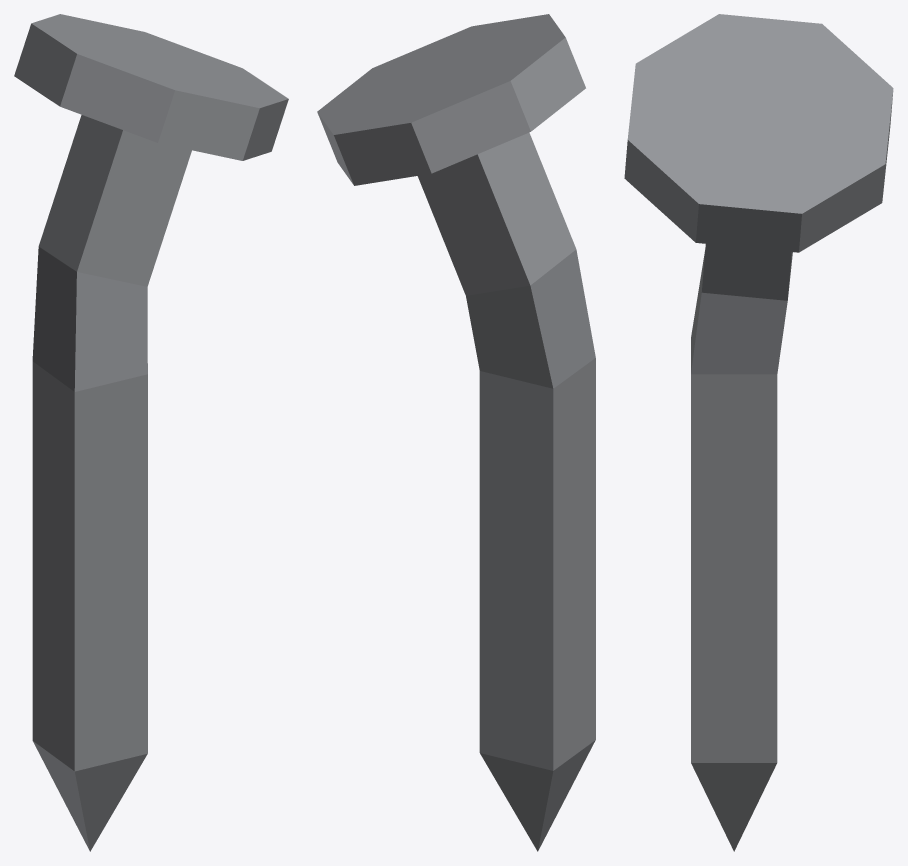
The model's file is SM_Item_Nail_06.fbx.
3 renders of one model, left to right at view 1: azimuth 30°, elevation 25°; view 2: azimuth 150°, elevation 25°; view 3: azimuth 270°, elevation 25°, orthographic. The views are drawn at different scales.
Visible parts, largest first — view 1: SM_Item_Nail_06; view 2: SM_Item_Nail_06; view 3: SM_Item_Nail_06.
Part boxes in pixels (bbox=[...]): SM_Item_Nail_06: bbox=[14, 14, 288, 851]; SM_Item_Nail_06: bbox=[317, 14, 595, 851]; SM_Item_Nail_06: bbox=[624, 14, 893, 851].
Size of the model in its own units: 3.79 by 12.99 by 3.83.
